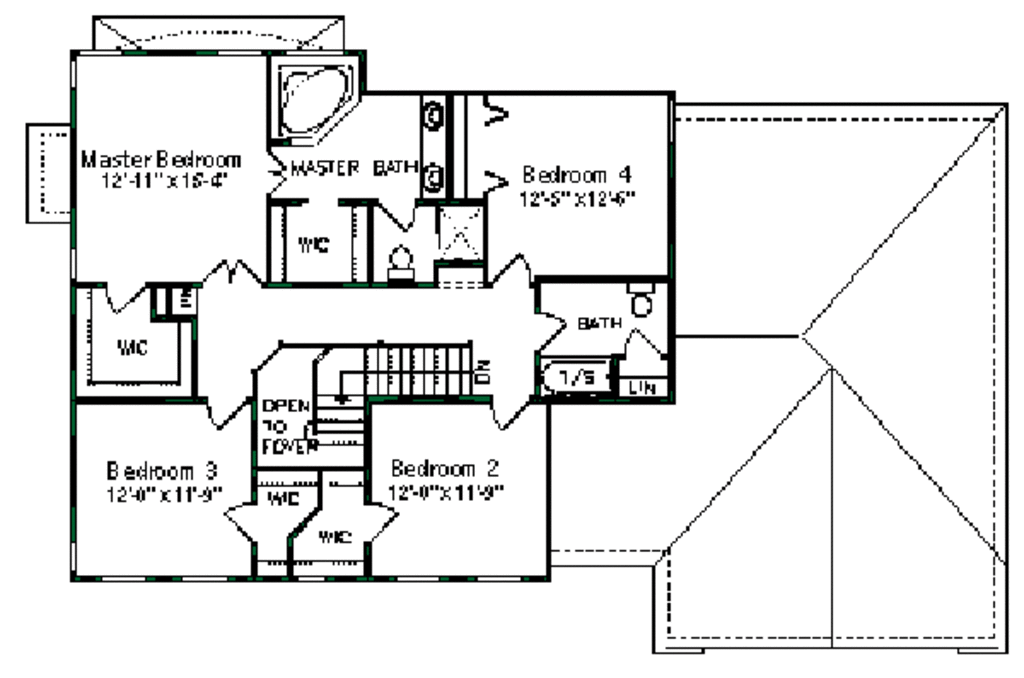door: (195, 255, 263, 289), (534, 306, 570, 359), (361, 501, 402, 547), (486, 250, 531, 291), (95, 278, 152, 309), (200, 393, 248, 429), (489, 391, 530, 432), (379, 191, 415, 234), (219, 498, 255, 541), (622, 326, 661, 362)
large_sink: (619, 279, 659, 320), (379, 244, 417, 283)
small_sink: (421, 94, 457, 198)
stairs: (312, 341, 479, 452)
tub: (277, 61, 359, 137), (537, 355, 616, 396)
windows: (96, 573, 244, 587)
